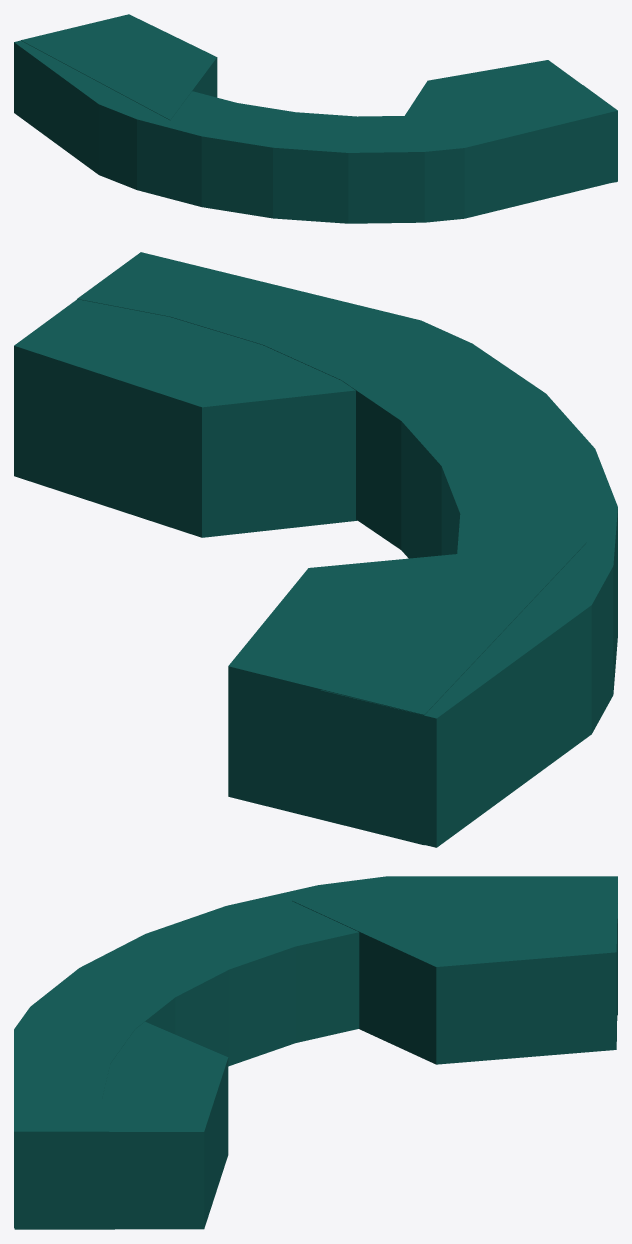
The model's file is Phone.c71e5e23.glb.
3 renders of one model, top to bottom at view 1: azimuth 30°, elevation 25°; view 2: azimuth 150°, elevation 25°; view 3: azimuth 270°, elevation 25°, orthographic. The views are drawn at different scales.
Parts seen in each view (by area): view 1: Phone; view 2: Phone; view 3: Phone.
Boxes of the visible parts, x1,y1,x2,y2 form: Phone: (14, 14, 617, 223); Phone: (14, 252, 617, 847); Phone: (14, 876, 617, 1229).
Bounding box in the file's own units: 0.3139 × 0.0564 × 0.3139.
